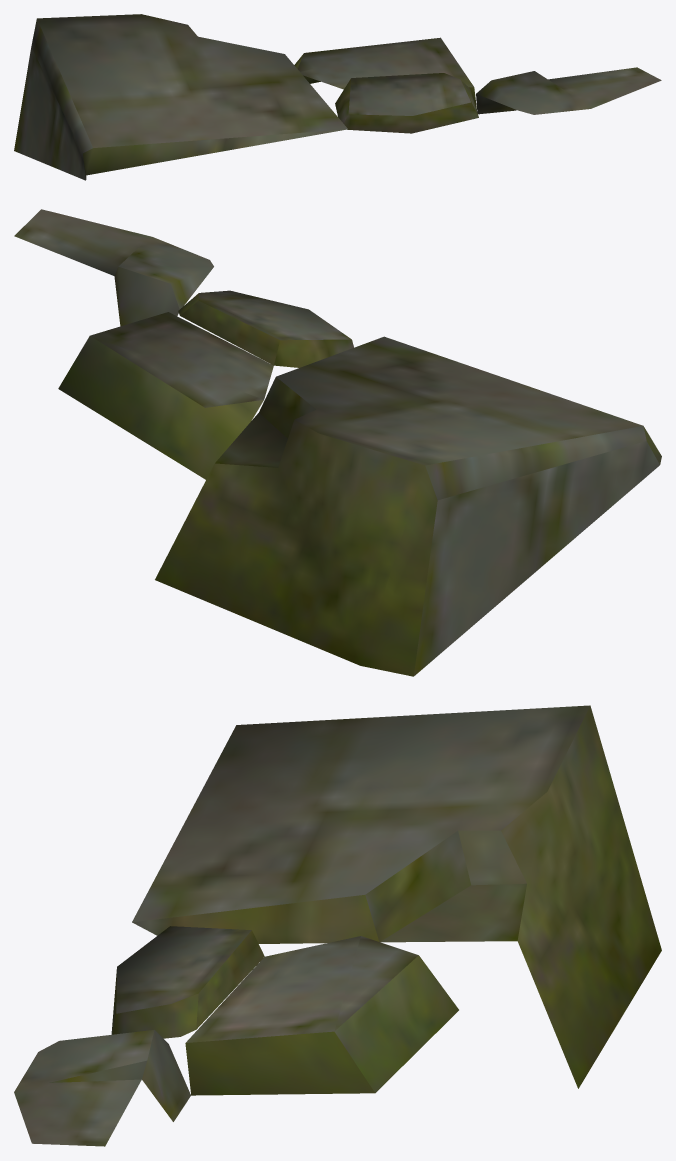
Rendered from S2_Build_XSC063_H22.FBX.
3 renders of one model, top to bottom at view 1: azimuth 30°, elevation 25°; view 2: azimuth 150°, elevation 25°; view 3: azimuth 270°, elevation 25°, orthographic. The views are drawn at different scales.
Parts seen in each view (by area): view 1: S2_Build_XSC063_H22; view 2: S2_Build_XSC063_H22; view 3: S2_Build_XSC063_H22.
Boxes of the visible parts, <box> form: S2_Build_XSC063_H22: <box>14,14,661,180</box>; S2_Build_XSC063_H22: <box>14,209,661,676</box>; S2_Build_XSC063_H22: <box>14,705,661,1146</box>.
Size of the model in its own units: 675 by 178 by 450.
